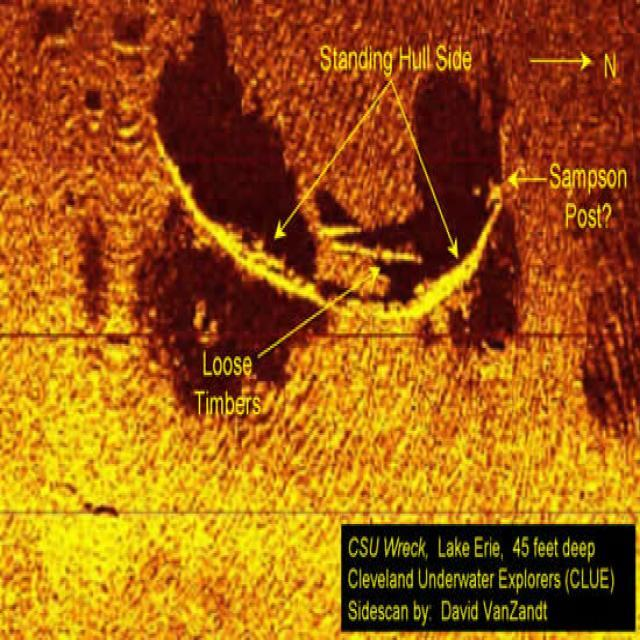shipwreck: (142, 101, 507, 338)
